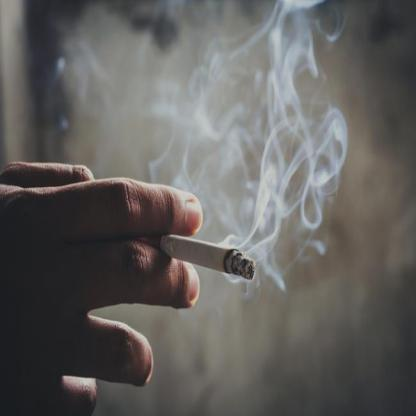cigarette: (149, 230, 257, 284)
smoke: (246, 2, 342, 251)
